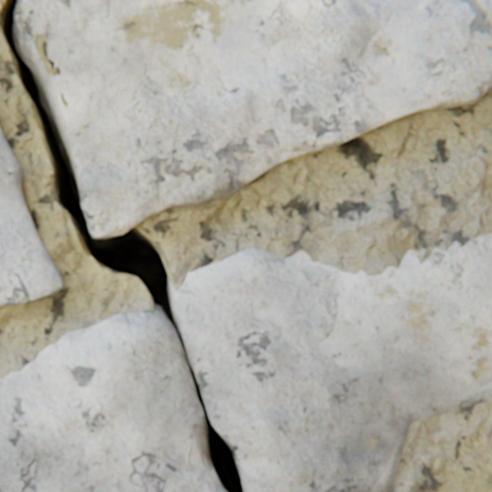brick: (20, 0, 491, 238), (0, 125, 64, 308)
broken_brick: (172, 232, 491, 491), (0, 309, 226, 491)
crack: (0, 0, 242, 491)
